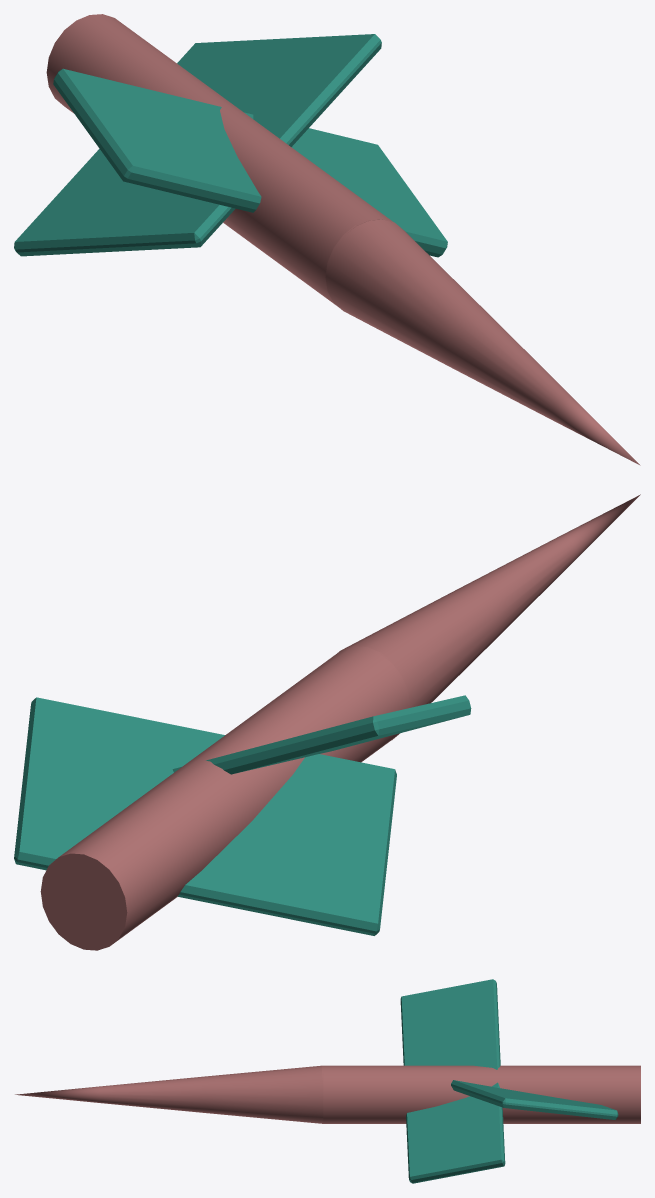
The picture shows the model from 3 angles, top to bottom: view 1: azimuth 30°, elevation 25°; view 2: azimuth 150°, elevation 25°; view 3: azimuth 270°, elevation 25°; orthographic projection. The views are drawn at different scales.
Visible parts, largest first — view 1: pCube1, pCube2, pCylinder1, pCone1; view 2: pCube1, pCylinder1, pCone1, pCube2; view 3: pCube2, pCylinder1, pCone1, pCube1.
Part boxes in pixels (x1,y1,x2,y2): pCube1: (14,34,381,256); pCube2: (53,68,447,257); pCylinder1: (46,14,392,306); pCone1: (325,218,640,465); pCube1: (14,697,396,935); pCylinder1: (40,646,410,950); pCone1: (339,494,640,739); pCube2: (172,695,471,774); pCube2: (400,979,505,1183); pCylinder1: (322,1065,640,1123); pCone1: (15,1065,323,1123); pCube1: (451,1080,618,1119).
Size of the model in its own units: 5.42 by 3.08 by 14.58.
